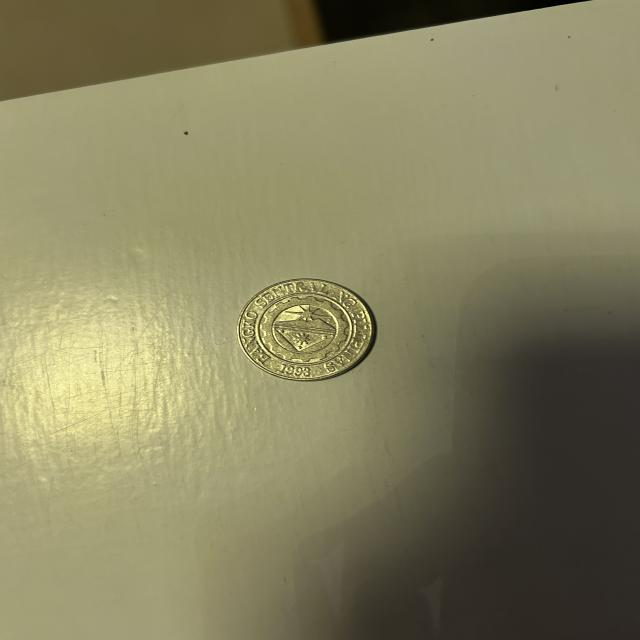1_Old_Back: (254, 293, 356, 367)
